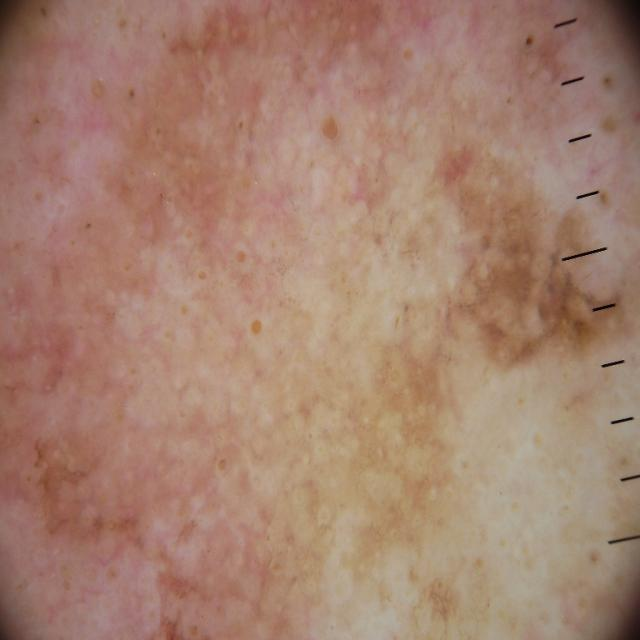Skin-Cancer Seborrheic keratosis: (2, 3, 636, 640)
